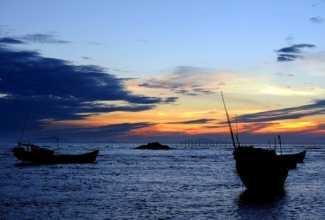otherboat: (234, 125, 309, 200), (9, 128, 107, 164)
